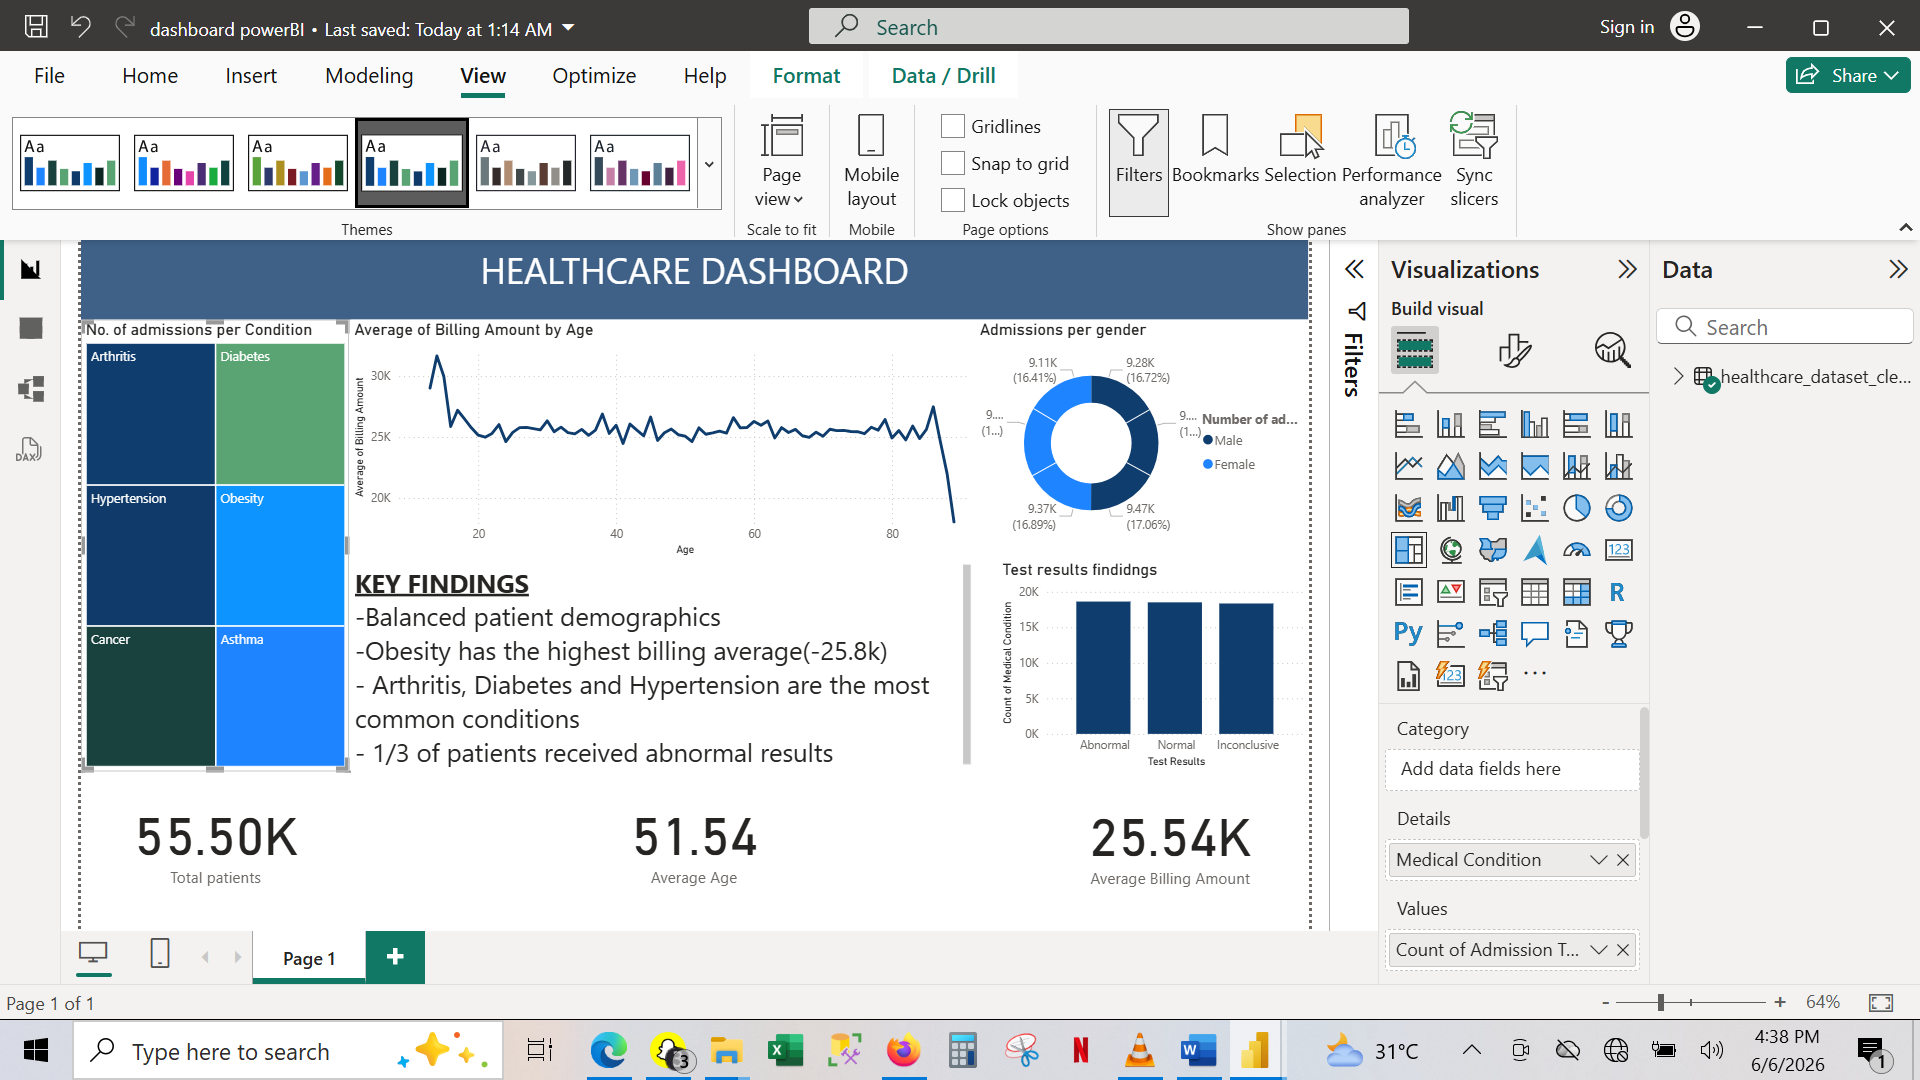

Layout of this report page (visuals, bound fields, positions):
{"tool":"powerbi","page":{"name":"Page 1","canvas":[1280,720],"ordinal":0},"visuals":[{"type":"treemap","title":"No. of admissions per Condition","fields":{"Values":["CountNonNull(healthcare_dataset_cleaned.Admission Type)"],"Details":["healthcare_dataset_cleaned.Medical Condition"]},"box":[0,82.8,279.8,470.5],"z":0},{"type":"donutChart","title":"Admissions per gender","fields":{"Category":["healthcare_dataset_cleaned.Gender"],"Series":["healthcare_dataset_cleaned.Admission Type"],"Y":["CountNonNull(healthcare_dataset_cleaned.Admission Type)"]},"box":[931.5,82.8,348.5,237.6],"z":2000},{"type":"card","fields":{"Values":["CountNonNull(healthcare_dataset_cleaned.Admission Type)"]},"box":[0,553.3,279.8,143.8],"z":3000},{"type":"card","fields":{"Values":["Avg(healthcare_dataset_cleaned.Age)"]},"box":[498.6,553.3,279.8,143.8],"z":4000},{"type":"card","fields":{"Values":["Avg(healthcare_dataset_cleaned.Billing Amount)"]},"box":[989.4,553.3,290.7,143.8],"z":5000},{"type":"lineChart","fields":{"Category":["healthcare_dataset_cleaned.Age"],"Y":["Avg(healthcare_dataset_cleaned.Billing Amount)"]},"box":[279.8,82.8,651.8,250.1],"z":6000},{"type":"columnChart","title":"Test results findidngs","fields":{"Category":["healthcare_dataset_cleaned.Test Results"],"Y":["CountNonNull(healthcare_dataset_cleaned.Medical Condition)"]},"box":[955,332.9,325.1,220.4],"z":7000},{"type":"textbox","box":[0,0,1278.5,82.8],"z":7001},{"type":"textbox","box":[280,333,652,220],"z":7002}]}

Visuals, with their boxes on the page's 1280x720 design canvas (x1, y1, x2, y2). These are canvas units, not pixel positions in the 1920x1080 screenshot, which may show the page scaled, cropped or inside an application window:
"No. of admissions per Condition" treemap: 0 83 280 553
"Admissions per gender" donutChart: 932 83 1280 320
card - CountNonNull(healthcare_dataset_cleaned.Admission Type): 0 553 280 697
card - Avg(healthcare_dataset_cleaned.Age): 499 553 778 697
card - Avg(healthcare_dataset_cleaned.Billing Amount): 989 553 1280 697
lineChart - healthcare_dataset_cleaned.Age x Avg(healthcare_dataset_cleaned.Billing Amount): 280 83 932 333
"Test results findidngs" columnChart: 955 333 1280 553
textbox: 0 0 1278 83
textbox: 280 333 932 553
